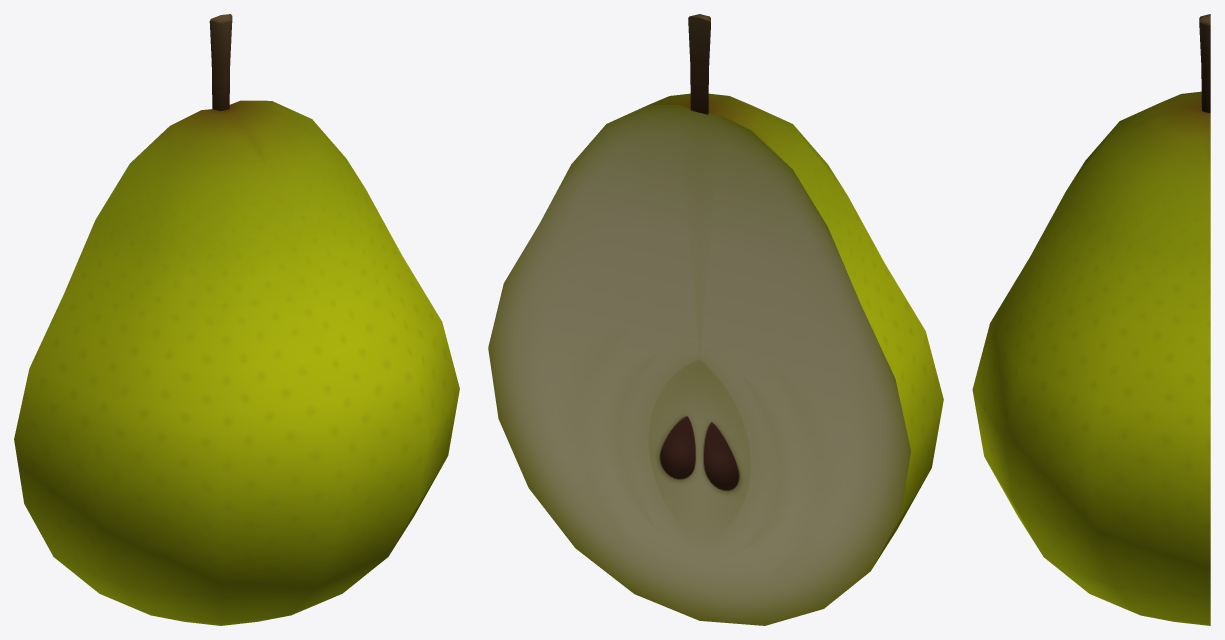
Rendered from Pear_Half_Back.fbx.
3 views of the same model, side by side, from view 1: azimuth 30°, elevation 25°; view 2: azimuth 150°, elevation 25°; view 3: azimuth 270°, elevation 25° (orthographic). The views are drawn at different scales.
Visible parts, largest first — view 1: Pear_Half_Back; view 2: Pear_Half_Back; view 3: Pear_Half_Back.
Boxes of the visible parts, x1,y1,x2,y2 form: Pear_Half_Back: [14, 14, 459, 625]; Pear_Half_Back: [488, 14, 943, 625]; Pear_Half_Back: [972, 14, 1210, 625].
Size of the model in its own units: 1.5 by 2.04 by 0.75.
